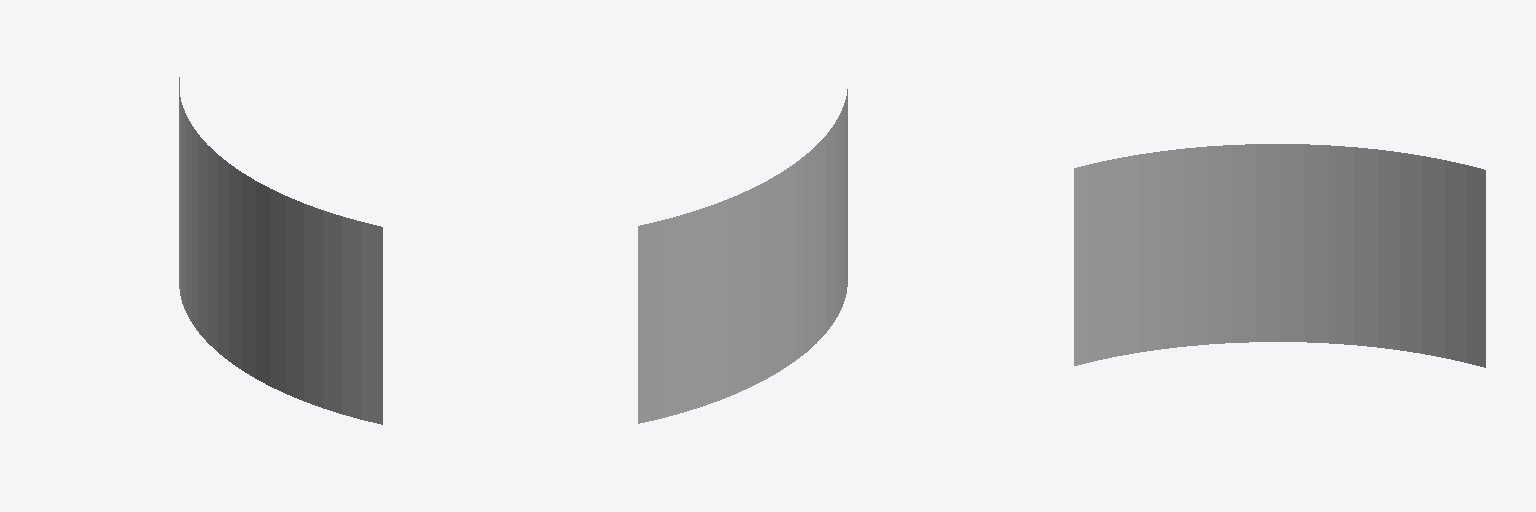
File: pantallaTv.obj
3 views of the same model, side by side, from view 1: azimuth 30°, elevation 25°; view 2: azimuth 150°, elevation 25°; view 3: azimuth 270°, elevation 25° (orthographic).
Visible parts, largest first — view 1: pasted__pPlane1 group1; view 2: pasted__pPlane1 group1; view 3: pasted__pPlane1 group1.
Boxes of the visible parts, x1,y1,x2,y2 form: pasted__pPlane1 group1: [179, 77, 382, 424]; pasted__pPlane1 group1: [638, 89, 847, 423]; pasted__pPlane1 group1: [1074, 144, 1485, 367].
Bounding box in the file's own units: 23.64 × 83.64 × 158.